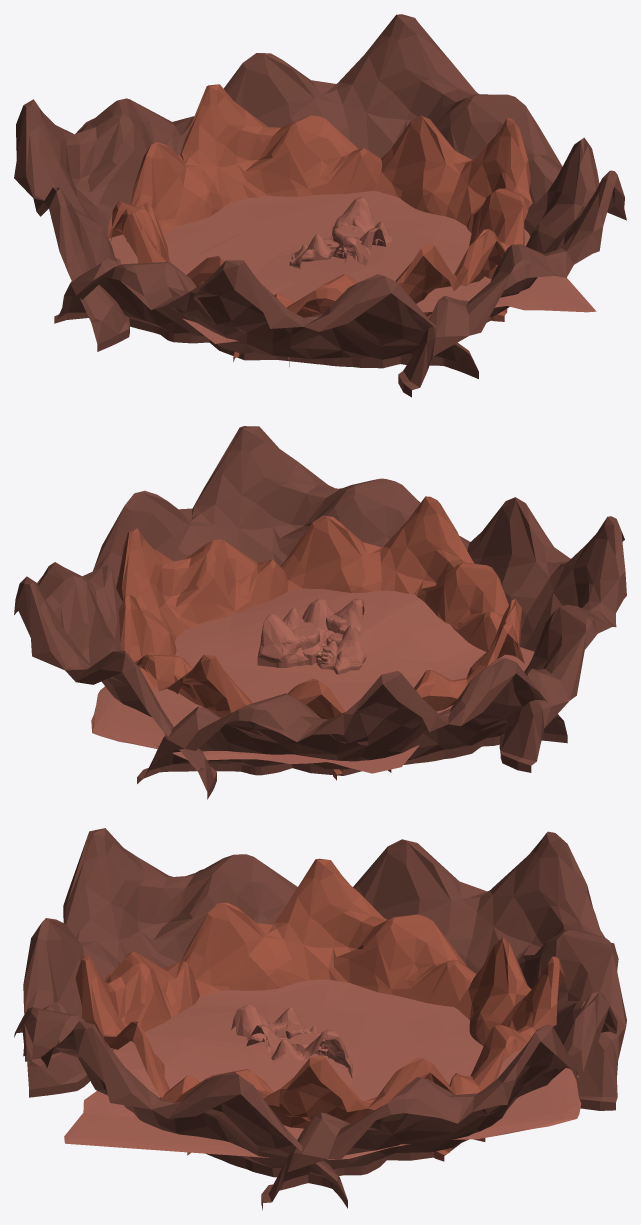
Rendered from montanyas.fbx.
The picture shows the model from 3 angles, top to bottom: view 1: azimuth 30°, elevation 25°; view 2: azimuth 150°, elevation 25°; view 3: azimuth 270°, elevation 25°; orthographic projection. The views are drawn at different scales.
Parts seen in each view (by area): view 1: mountain_curve (×2), mountain_curve2 (×2), mountain_curve3 (×2), two_dollops4, mountain_curve1 (×2), two_dollops7, two_dollops2; view 2: mountain_curve1 (×2), mountain_curve (×2), mountain_curve2 (×2), mountain_curve3 (×2), two_dollops4, two_dollops7, two_dollops2, one_dollop; view 3: mountain_curve3 (×2), mountain_curve (×2), two_dollops4, mountain_curve2 (×2), mountain_curve1 (×2), two_dollops7, two_dollops2.
Part boxes in pixels (x1,y1,x2,y2): mountain_curve (×2): (14, 84, 382, 351); mountain_curve2 (×2): (223, 14, 562, 321); mountain_curve3 (×2): (54, 201, 478, 378); two_dollops4: (108, 190, 596, 343); mountain_curve1 (×2): (233, 137, 626, 397); two_dollops7: (331, 197, 392, 245); two_dollops2: (289, 234, 370, 268); mountain_curve1 (×2): (93, 426, 508, 651); mountain_curve (×2): (135, 652, 567, 783); mountain_curve2 (×2): (14, 528, 287, 799); mountain_curve3 (×2): (333, 497, 626, 780); two_dollops4: (91, 588, 534, 773); two_dollops7: (257, 607, 309, 668); two_dollops2: (319, 598, 366, 670); one_dollop: (302, 599, 335, 630); mountain_curve3 (×2): (23, 828, 476, 1097); mountain_curve (×2): (353, 831, 626, 1161); two_dollops4: (64, 979, 581, 1159); mountain_curve2 (×2): (159, 991, 617, 1210); mountain_curve1 (×2): (14, 951, 347, 1208); two_dollops7: (271, 1029, 352, 1078); two_dollops2: (231, 1004, 309, 1052).
Size of the model in its own units: 4579 by 1296 by 4579.
